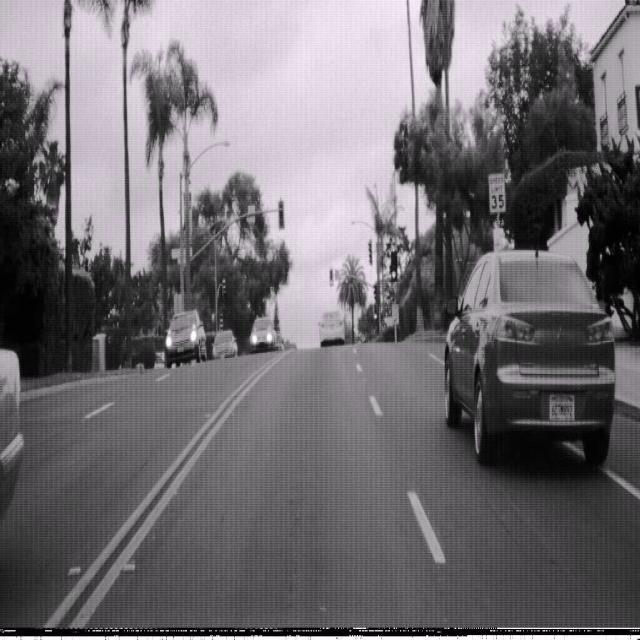speedLimit35: (488, 170, 507, 213)
